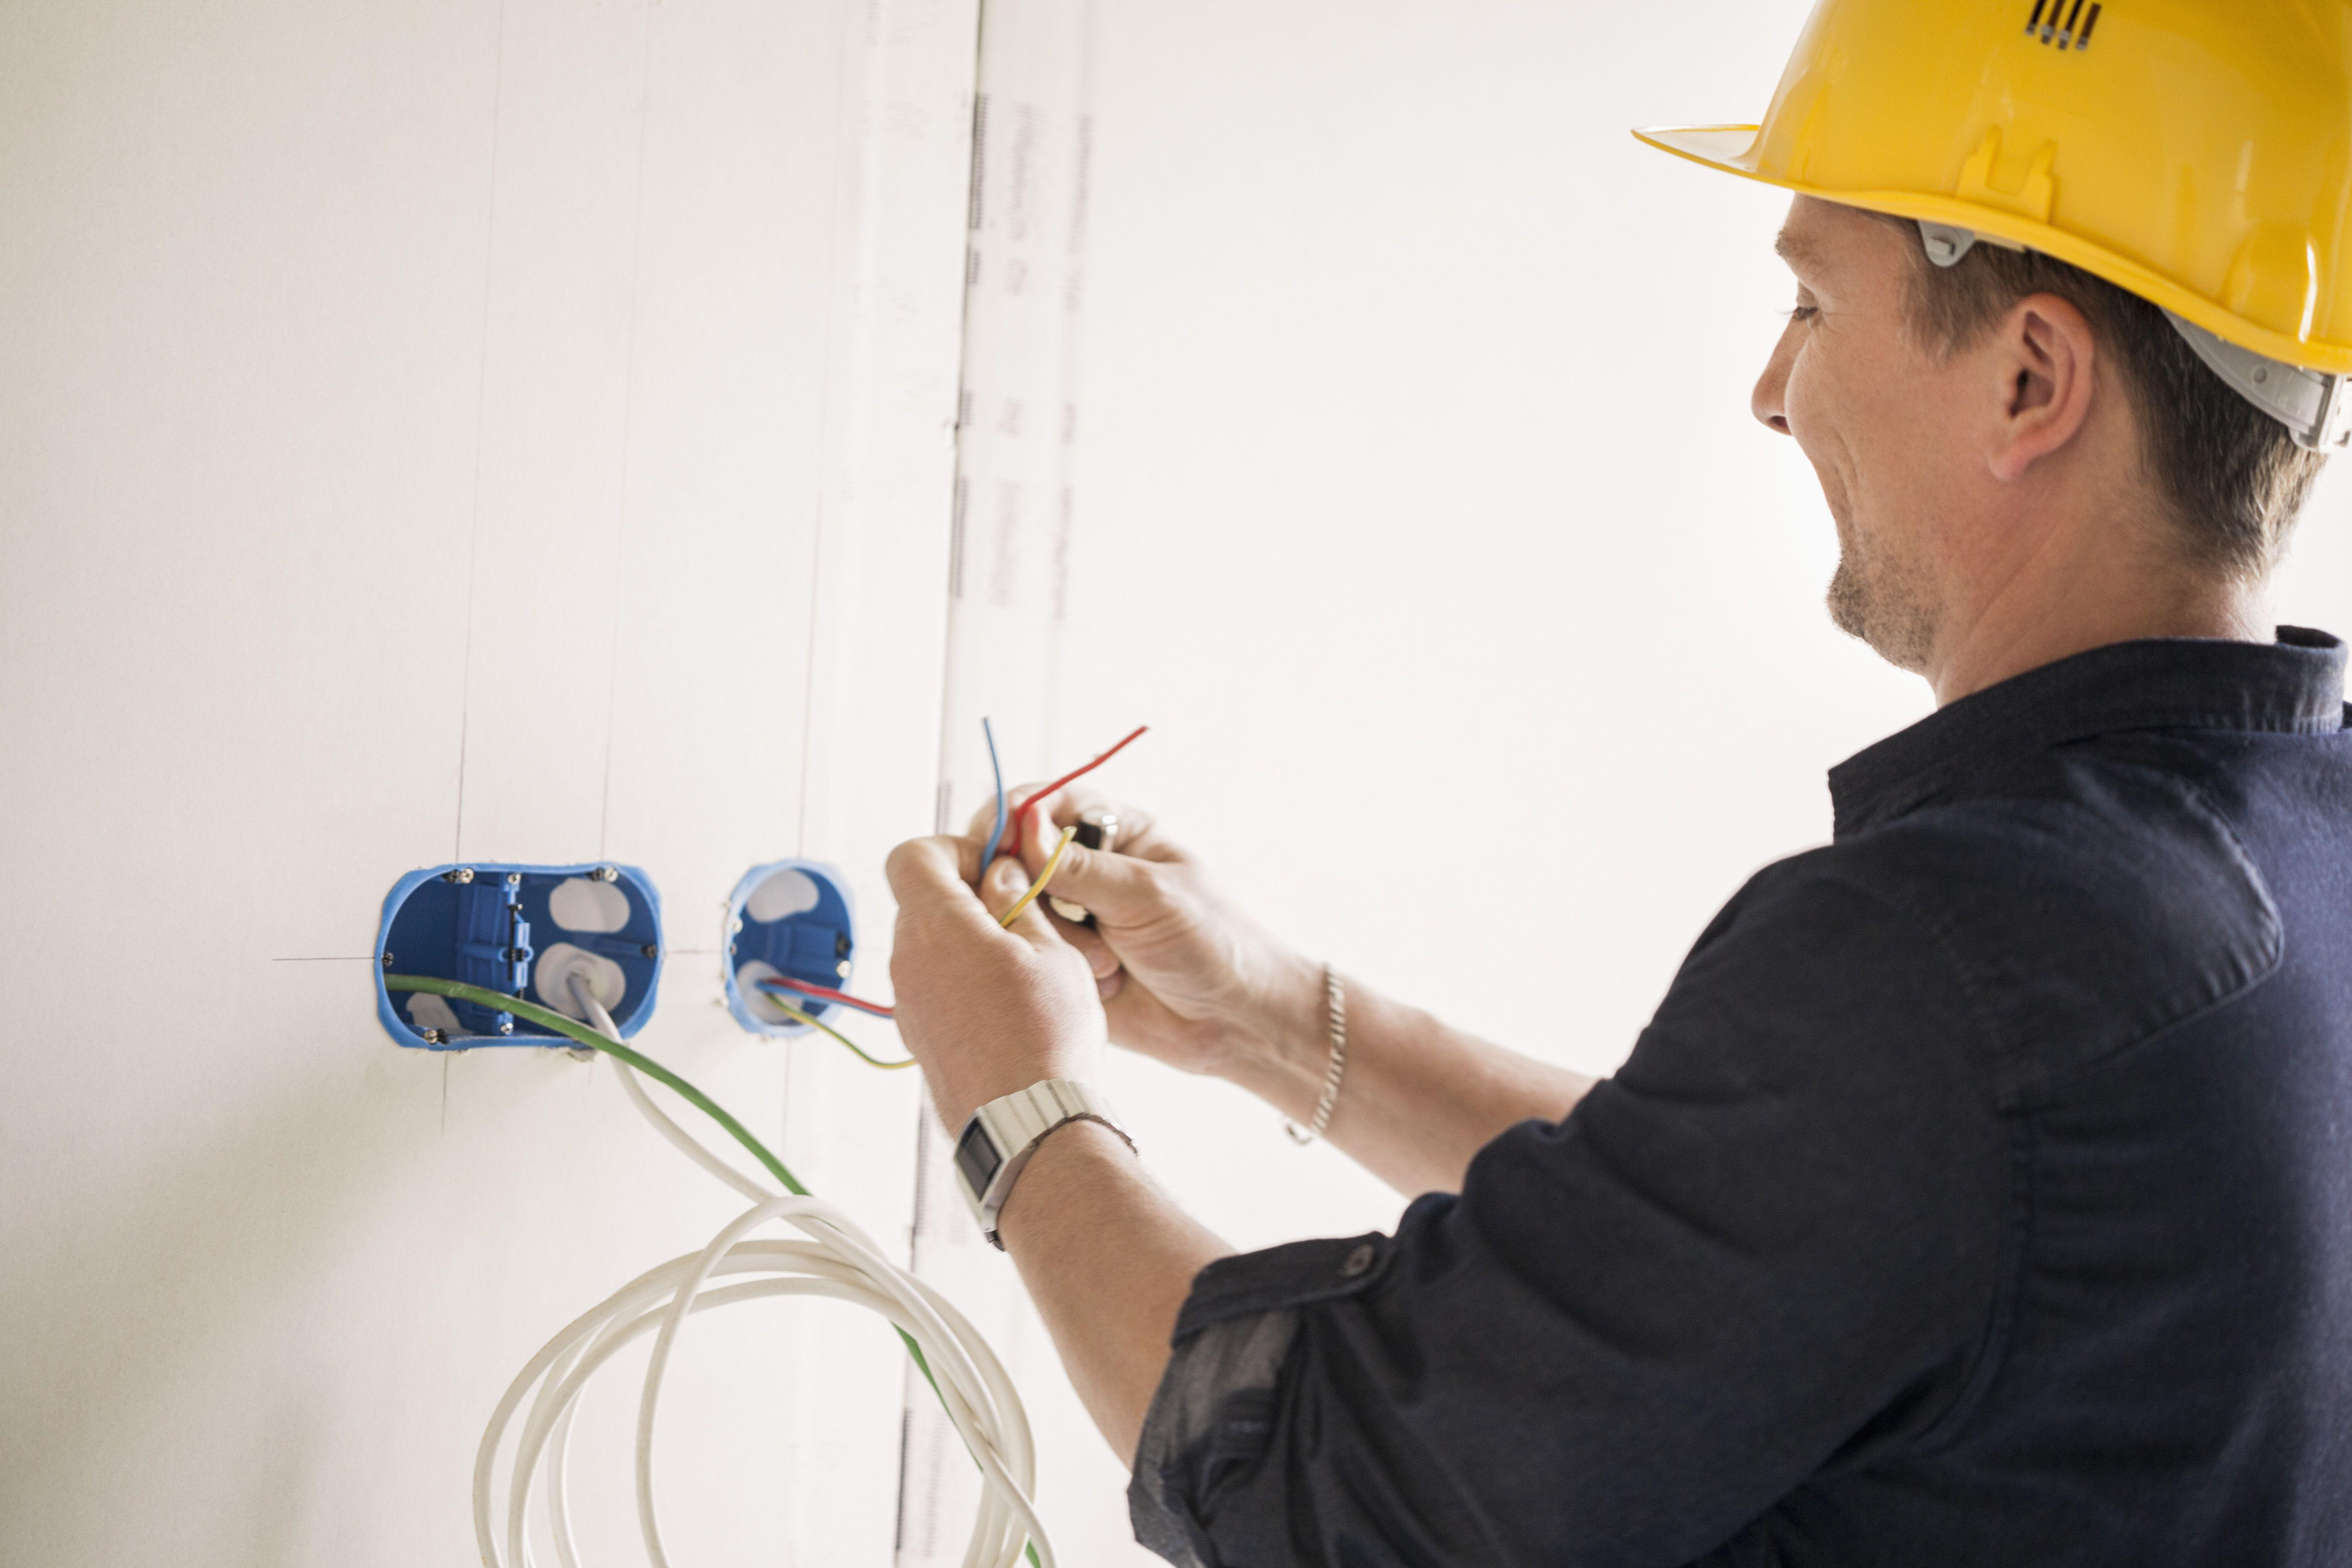helmet: (1641, 0, 2352, 374)
